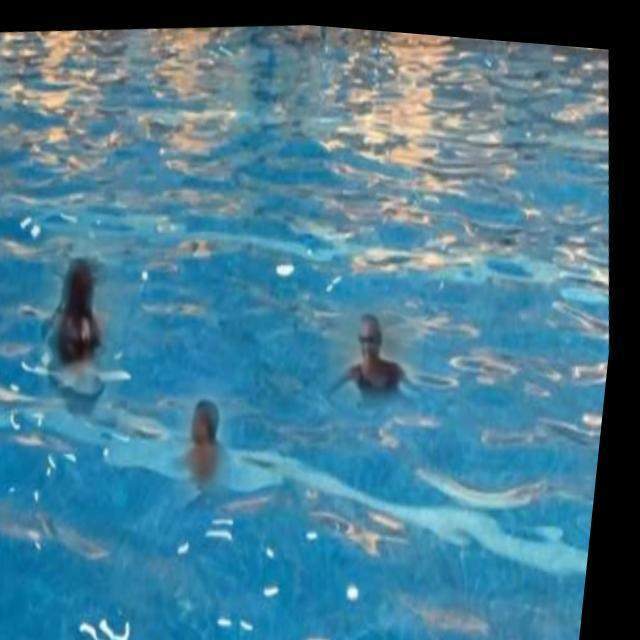swimming: (310, 292, 420, 402), (41, 243, 112, 401), (160, 400, 235, 504)
